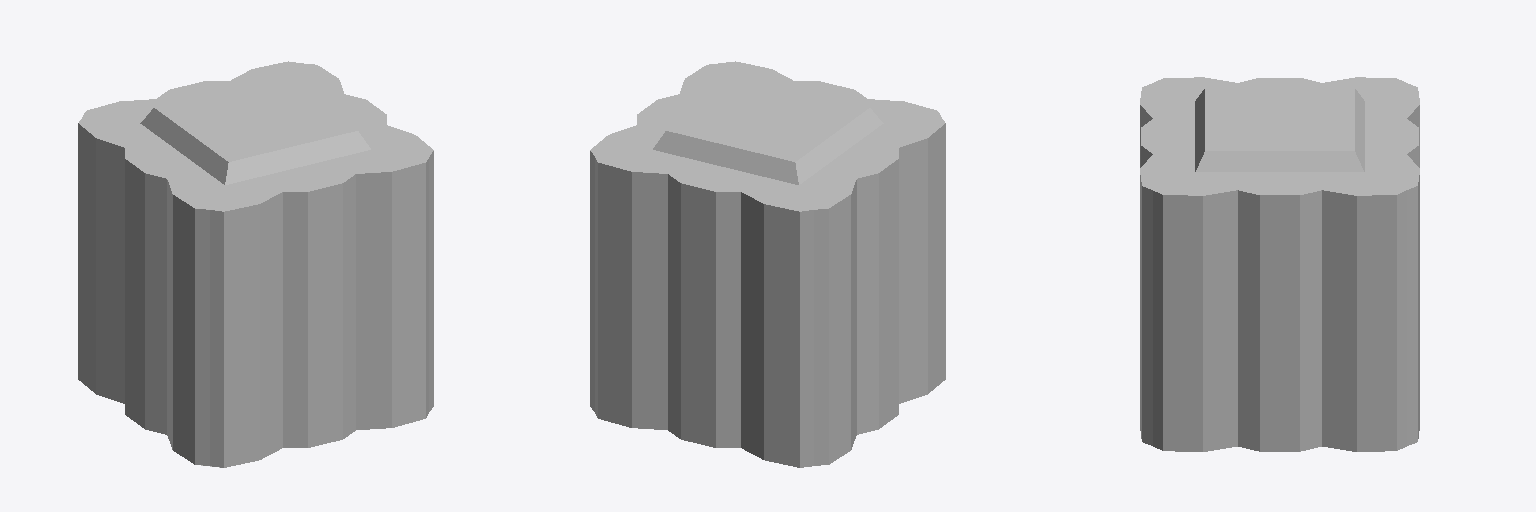
Rendered from wood_wall.obj.
3 renders of one model, left to right at view 1: azimuth 30°, elevation 25°; view 2: azimuth 150°, elevation 25°; view 3: azimuth 270°, elevation 25°, orthographic.
Parts seen in each view (by area): view 1: Cube; view 2: Cube; view 3: Cube.
Part boxes in pixels (x1,y1,x2,y2): Cube: (78, 61, 433, 467); Cube: (590, 61, 945, 467); Cube: (1140, 77, 1419, 451).
Bounding box in the file's own units: 1.98 × 2.14 × 1.98.